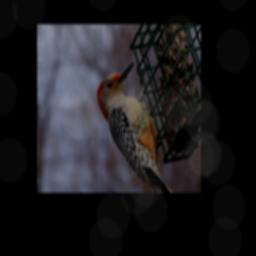Woodpecker: (96, 63, 169, 192)
